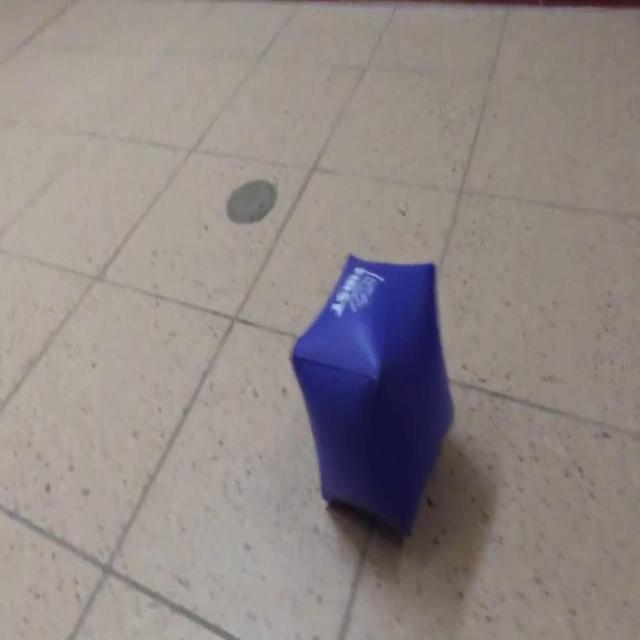frc_cube: (290, 253, 454, 534)
